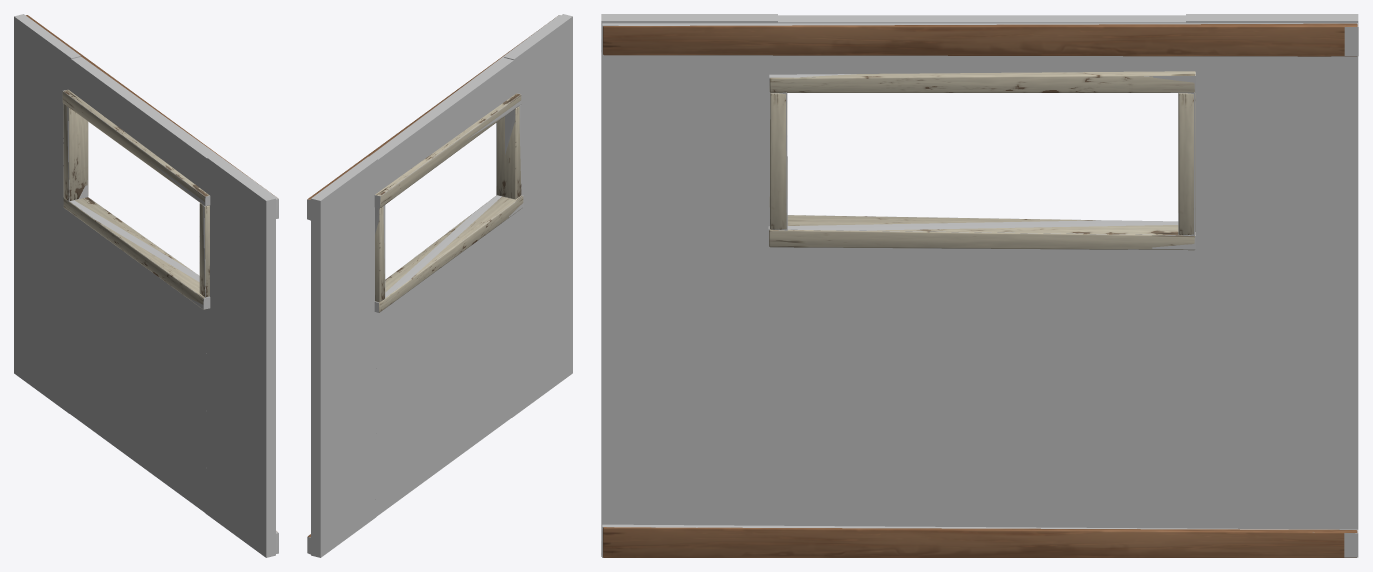
Rendered from SM_Hangar01WW_5.fbx.
3 views of the same model, side by side, from view 1: azimuth 30°, elevation 25°; view 2: azimuth 150°, elevation 25°; view 3: azimuth 270°, elevation 25° (orthographic). The views are drawn at different scales.
Parts seen in each view (by area): view 1: SM_Hangar01WW_5_ConvexHulls, SM_Hangar01WW_5; view 2: SM_Hangar01WW_5_ConvexHulls, SM_Hangar01WW_5; view 3: SM_Hangar01WW_5_ConvexHulls, SM_Hangar01WW_5.
Boxes of the visible parts, <box> form: SM_Hangar01WW_5_ConvexHulls: <box>14,14,278,557</box>; SM_Hangar01WW_5: <box>26,15,274,309</box>; SM_Hangar01WW_5_ConvexHulls: <box>307,14,572,557</box>; SM_Hangar01WW_5: <box>307,15,558,536</box>; SM_Hangar01WW_5_ConvexHulls: <box>601,14,1358,557</box>; SM_Hangar01WW_5: <box>603,23,1357,557</box>.
Bounding box in the file's own units: 22.09 × 451 × 352.
4 materials, 3 textured.
